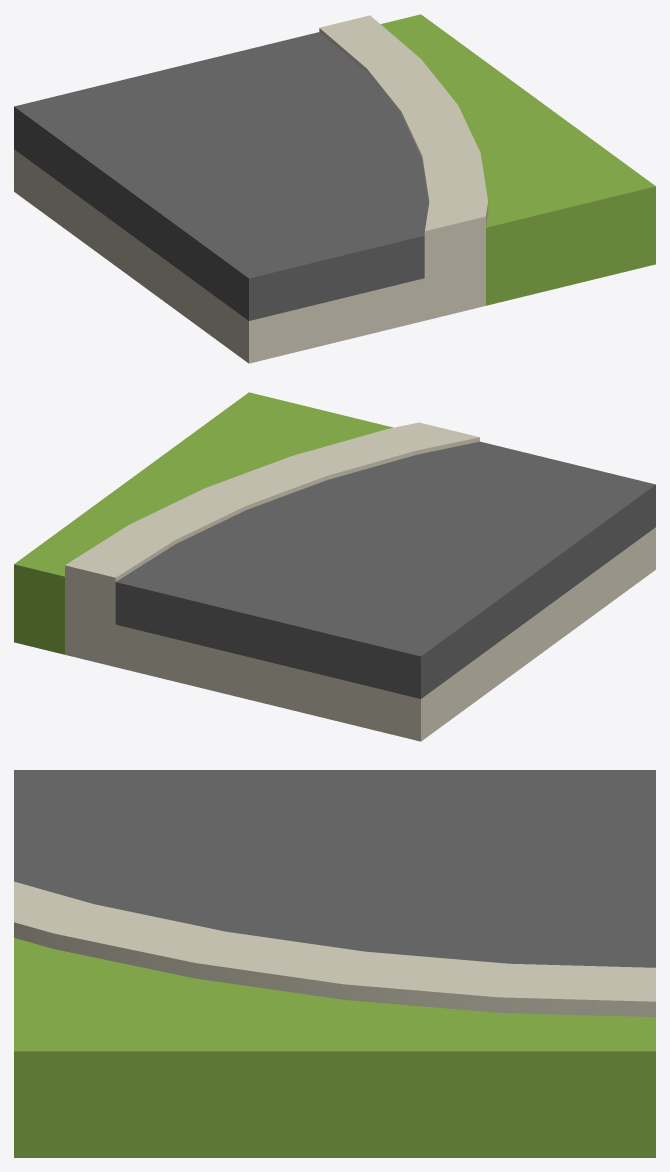
File: roadTile_057.fbx
The picture shows the model from 3 angles, top to bottom: view 1: azimuth 30°, elevation 25°; view 2: azimuth 150°, elevation 25°; view 3: azimuth 270°, elevation 25°; orthographic projection. The views are drawn at different scales.
Visible parts, largest first — view 1: roadTile_057; view 2: roadTile_057; view 3: roadTile_057.
Boxes of the visible parts, x1,y1,x2,y2 form: roadTile_057: [14, 14, 655, 363]; roadTile_057: [14, 392, 655, 741]; roadTile_057: [14, 770, 655, 1157].
Size of the model in its own units: 118 by 24.8 by 118.
